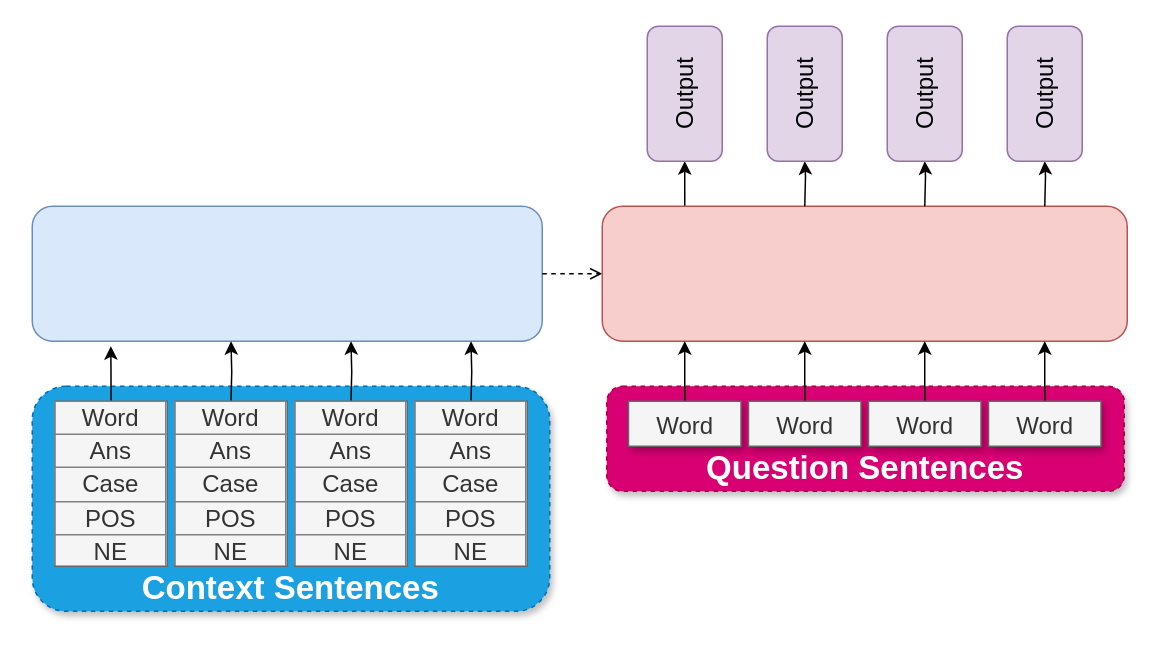
This 1160x648 diagram has some shape labels left out. The shapes that lost their labels are listed below. From the top down, each one's centre as x and y in pixels, then its label:
At (x=286, y=273): "Transformer Encoder".
At (x=864, y=273): "Transformer Decoder".
